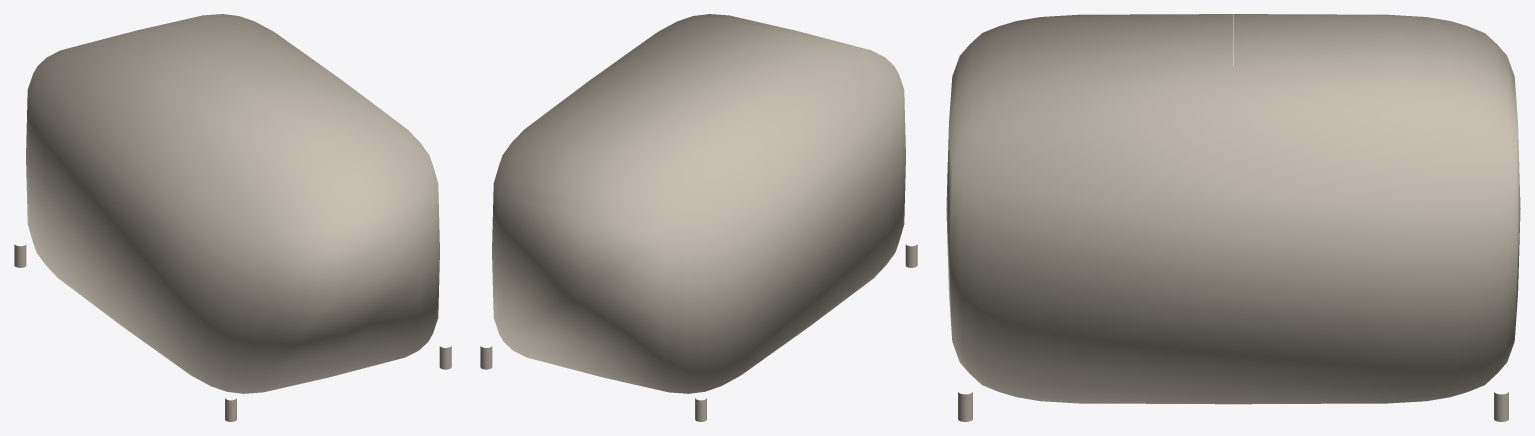
Rendered from ikea-soderhamn-30491902-g2-proxy.glb.
3 renders of one model, left to right at view 1: azimuth 30°, elevation 25°; view 2: azimuth 150°, elevation 25°; view 3: azimuth 270°, elevation 25°, orthographic. The views are drawn at different scales.
Visible parts, largest first — view 1: proxy_body; view 2: proxy_body; view 3: proxy_body.
Boxes of the visible parts, left/top/right/bottom form: proxy_body: left=26, top=14, right=439, bottom=393; proxy_body: left=492, top=14, right=905, bottom=393; proxy_body: left=946, top=14, right=1520, bottom=404.
Bounding box in the file's own units: 0.93 × 0.83 × 1.51.
